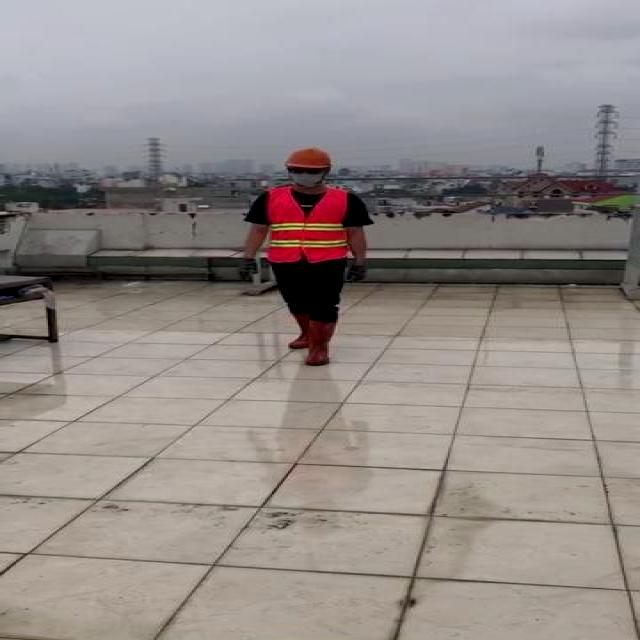boots: (304, 316, 338, 366), (283, 310, 311, 349)
face_mask: (287, 166, 328, 186)
glasses: (285, 164, 328, 177)
hand_glove: (233, 258, 259, 283), (347, 262, 368, 285)
head_helmet: (278, 147, 339, 170)
person: (232, 144, 374, 368)
vest: (268, 188, 348, 261)
